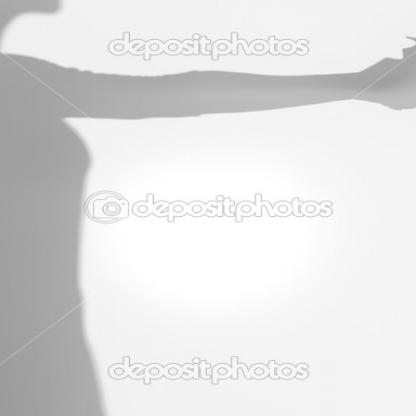gun: (379, 15, 415, 100)
